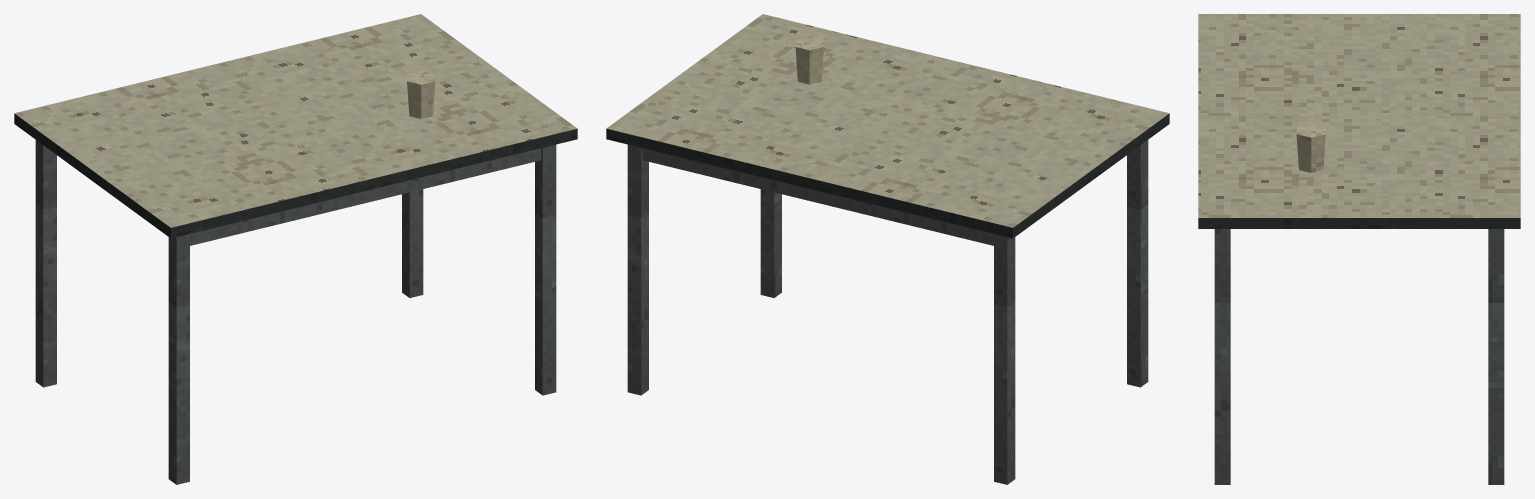
File: break_table.glb
3 renders of one model, left to right at view 1: azimuth 30°, elevation 25°; view 2: azimuth 150°, elevation 25°; view 3: azimuth 270°, elevation 25°, orthographic. The views are drawn at different scales.
Visible parts, largest first — view 1: BreakTable; view 2: BreakTable; view 3: BreakTable.
Boxes of the visible parts, x1,y1,x2,y2 form: BreakTable: (14, 14, 577, 484); BreakTable: (606, 14, 1169, 484); BreakTable: (1198, 14, 1520, 484).
Bounding box in the file's own units: 1.2 × 0.85 × 0.8.
4 materials, 4 textured.
